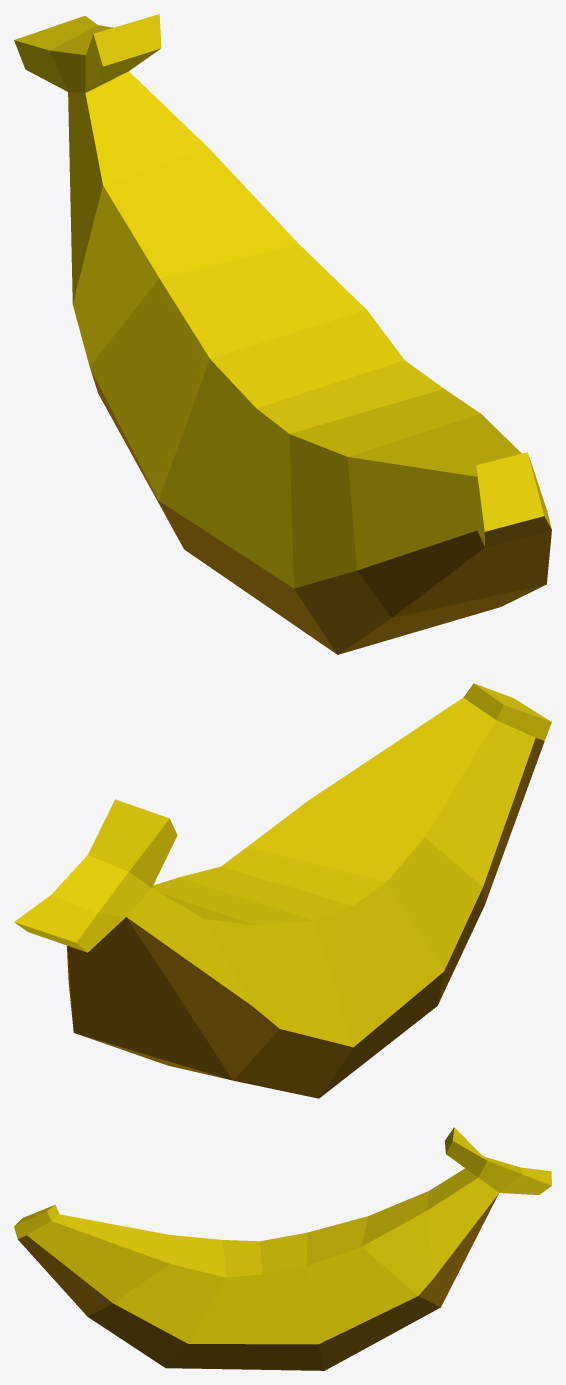
The model's file is Banana2.fbx.
The picture shows the model from 3 angles, top to bottom: view 1: azimuth 30°, elevation 25°; view 2: azimuth 150°, elevation 25°; view 3: azimuth 270°, elevation 25°; orthographic projection. The views are drawn at different scales.
Visible parts, largest first — view 1: Banana; view 2: Banana; view 3: Banana.
Part boxes in pixels (bbox=[...]): Banana: bbox=[14, 14, 551, 654]; Banana: bbox=[14, 683, 551, 1098]; Banana: bbox=[14, 1127, 551, 1370].
Bounding box in the file's own units: 25.12 × 41.01 × 92.56.
